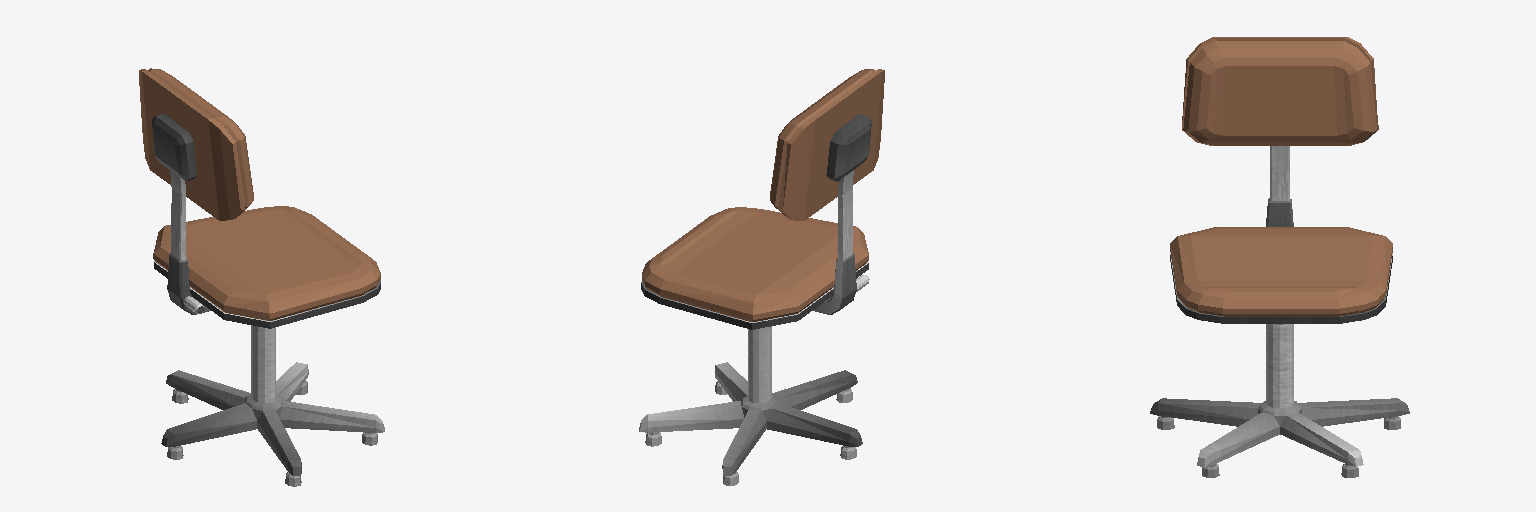
3 views of the same model, side by side, from view 1: azimuth 30°, elevation 25°; view 2: azimuth 150°, elevation 25°; view 3: azimuth 270°, elevation 25° (orthographic).
Bounding box in the file's own units: 5.1 × 9.51 × 6.22.
Materials: 5 (2 with a texture image).